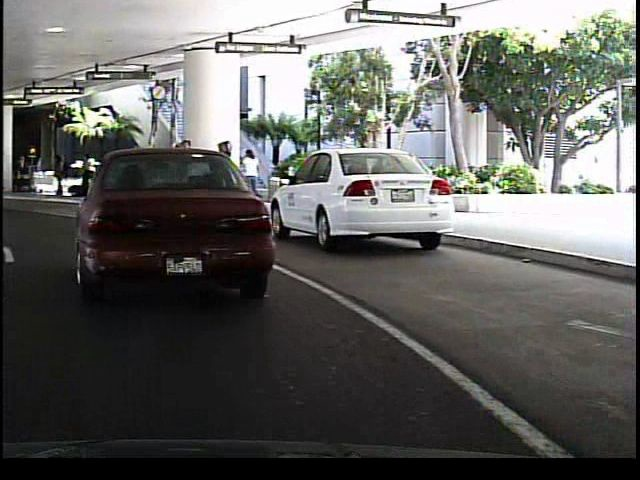person: (168, 134, 197, 207), (208, 135, 232, 209), (237, 145, 263, 205), (49, 149, 68, 202), (77, 155, 92, 196)
